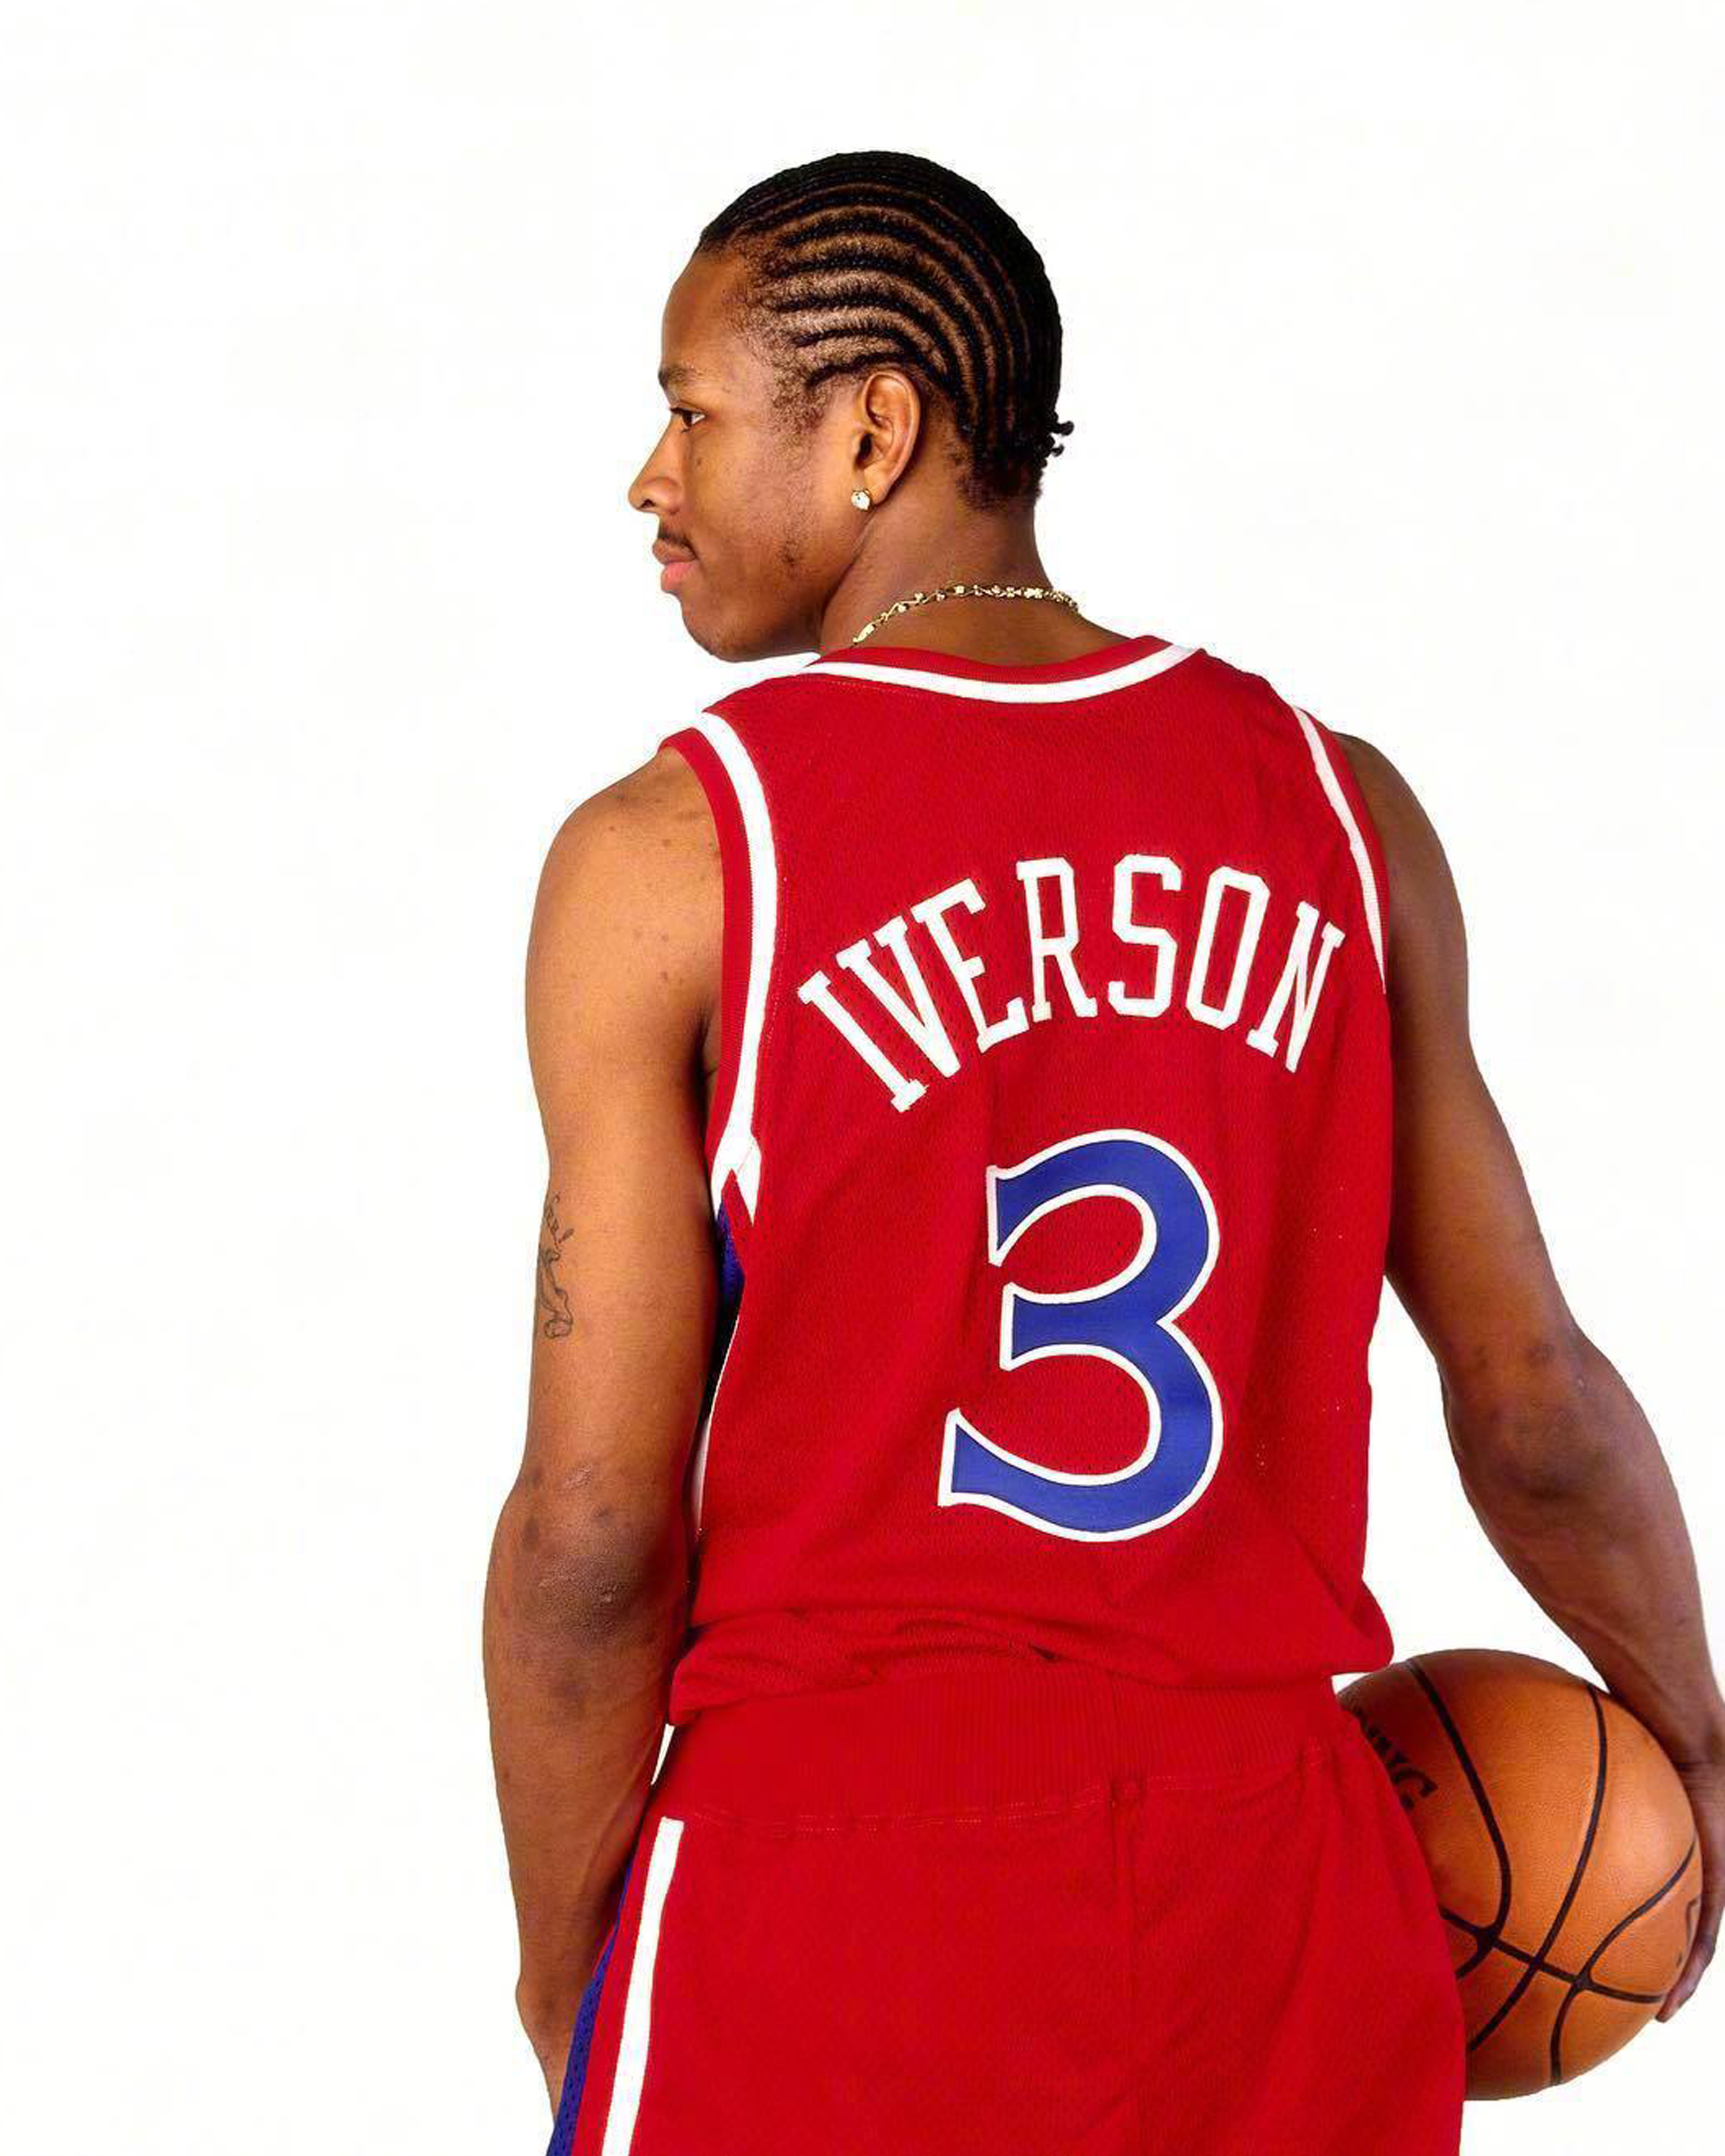ball: (1306, 1649, 1709, 2098)
